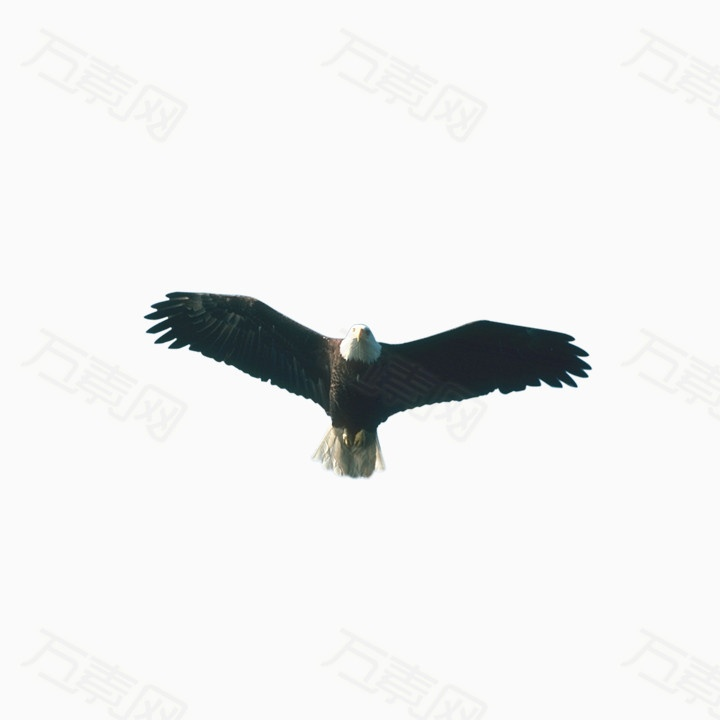bird: (141, 283, 589, 497)
